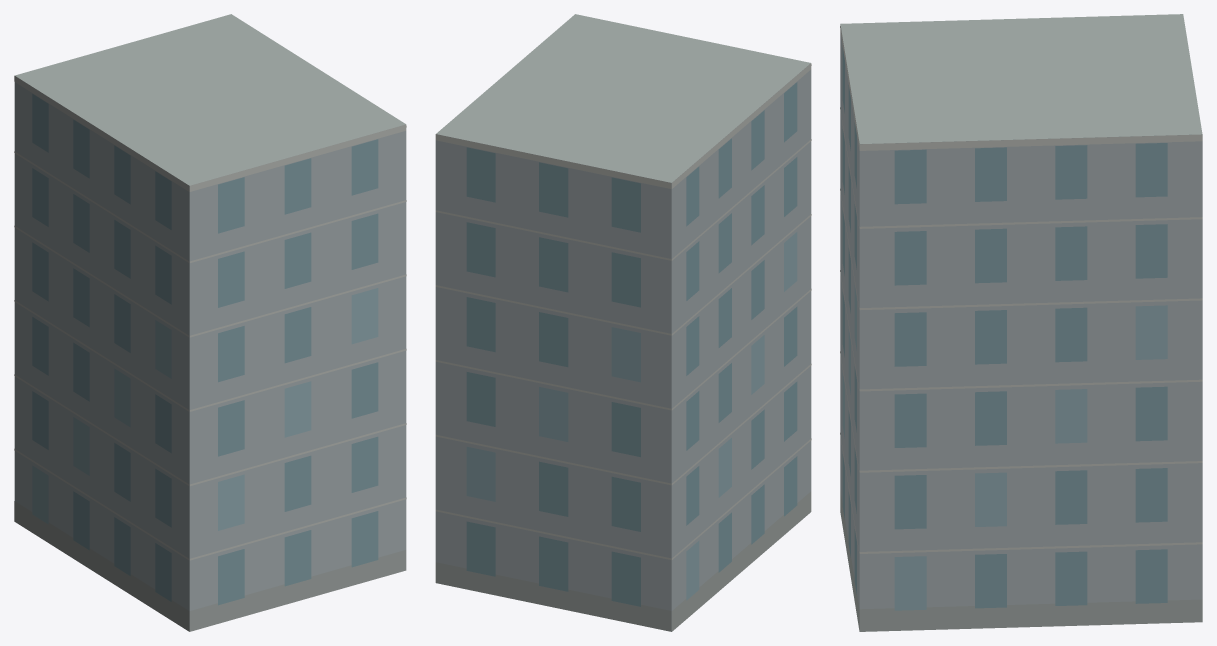
The model's file is survey-upis-32932215.glb.
3 renders of one model, left to right at view 1: azimuth 30°, elevation 25°; view 2: azimuth 150°, elevation 25°; view 3: azimuth 270°, elevation 25°, orthographic. The views are drawn at different scales.
Parts seen in each view (by area): view 1: survey-upis-32932215.tmp; view 2: survey-upis-32932215.tmp; view 3: survey-upis-32932215.tmp.
Part boxes in pixels (box(x1,y1,x2,y2)): survey-upis-32932215.tmp: box(14, 14, 406, 631); survey-upis-32932215.tmp: box(435, 14, 811, 631); survey-upis-32932215.tmp: box(840, 14, 1202, 631).
Bounding box in the file's own units: 9.92 × 17.3 × 11.67.
